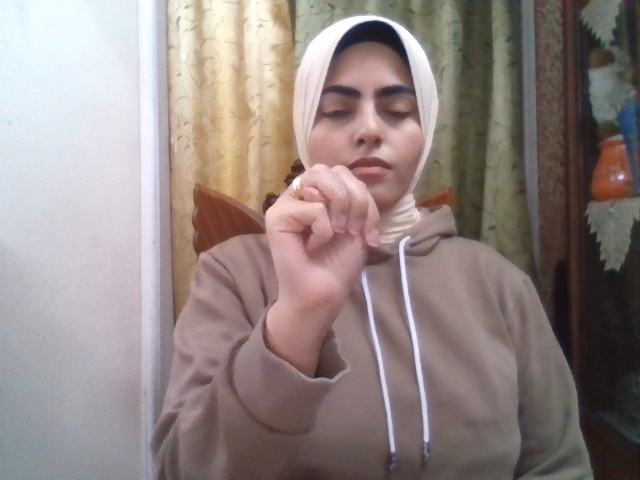M: (265, 164, 379, 309)
